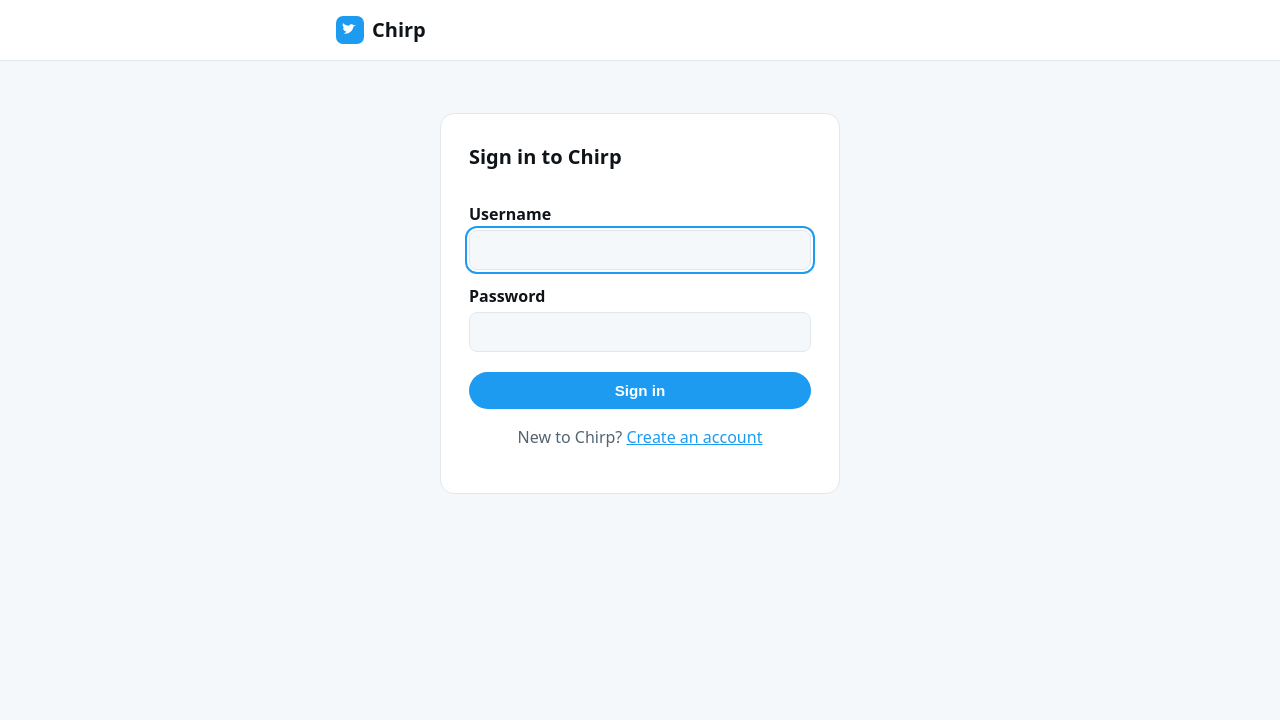
App routing and auth flow › shows the API error when sign-in fails (FR-04)
Type "alice" into the field labelled "Username" at (640, 250), box [469, 230, 811, 270]
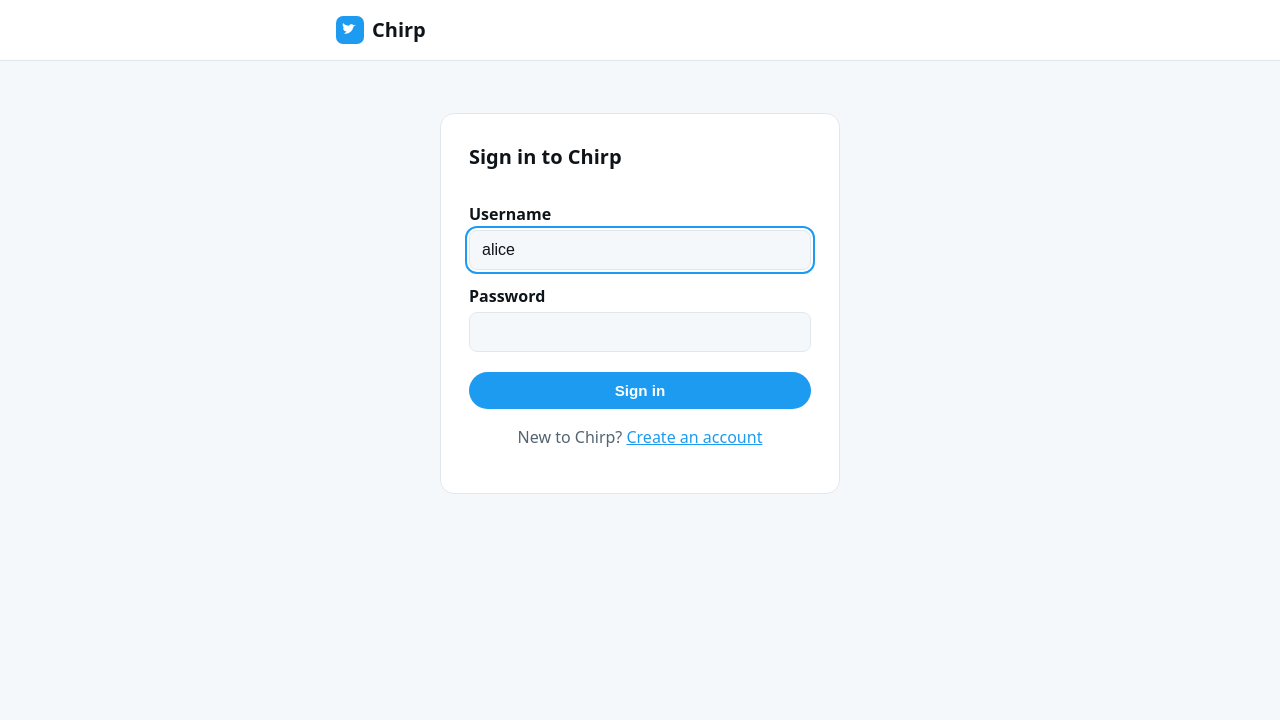
Type "wrong-password" into the password field labelled "Password" at (640, 332), box [469, 312, 811, 352]
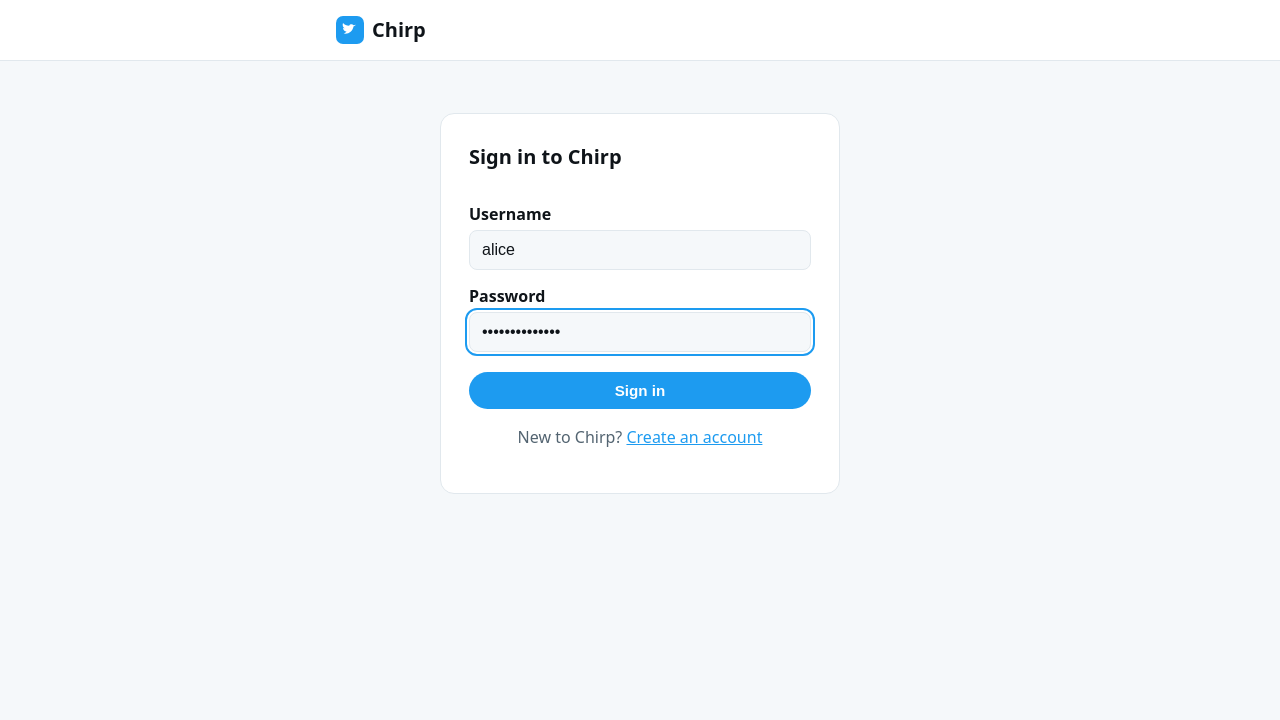
Click the button "Sign in" at (640, 390), box [469, 372, 811, 409]
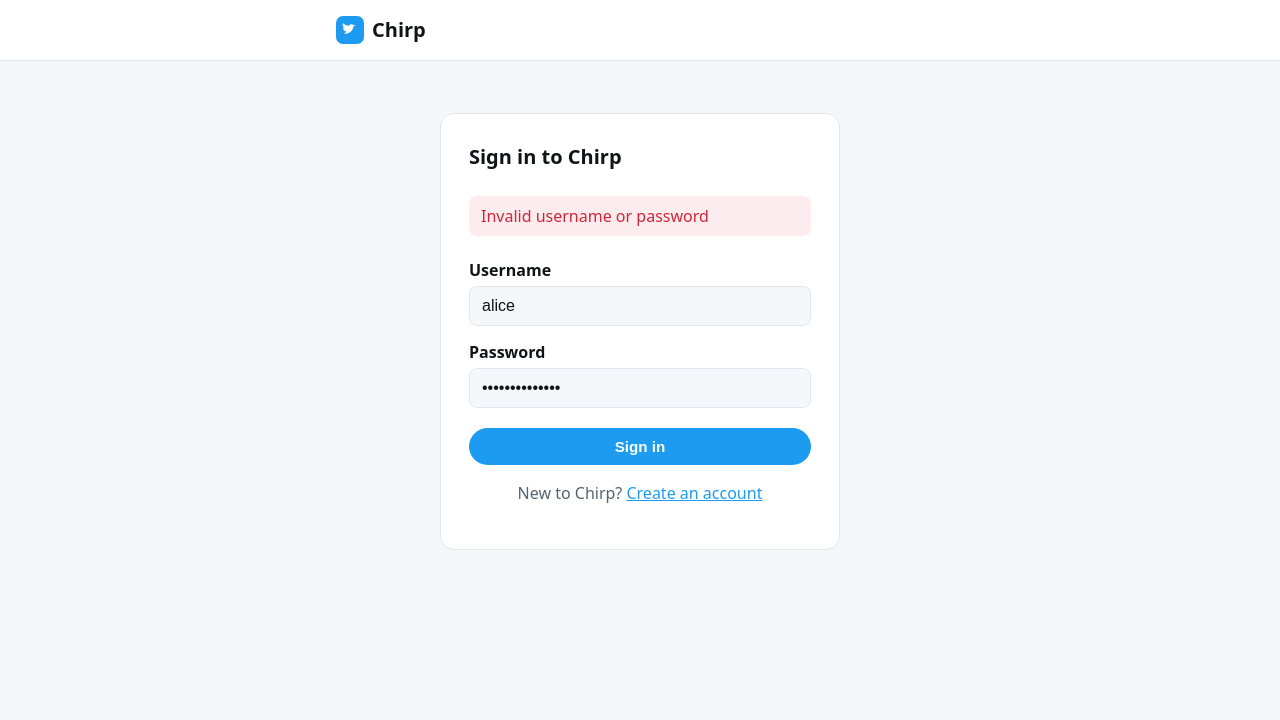
Expected: the message reads "Invalid username or password", [481, 205, 709, 227]
